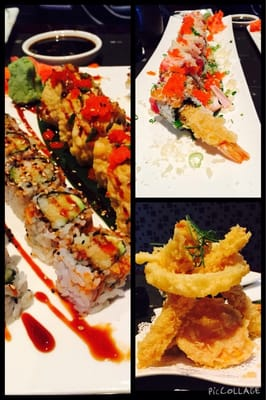soup: (136, 211, 257, 370)
sushi: (21, 30, 103, 68)
